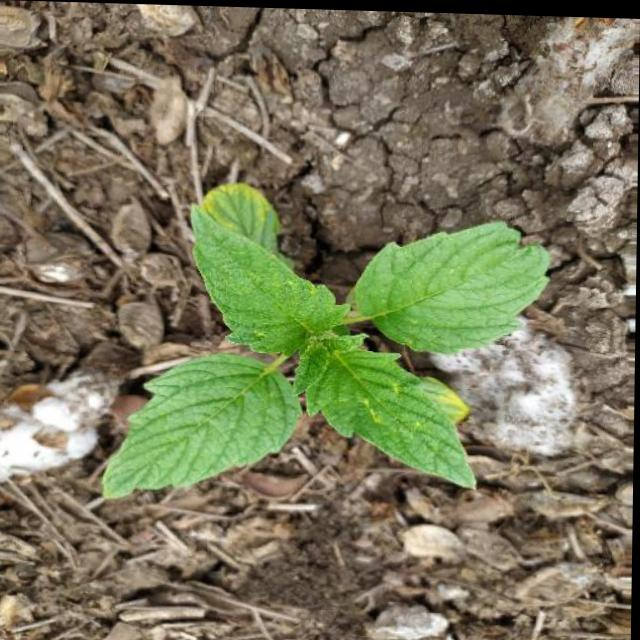crop: (87, 161, 567, 508)
